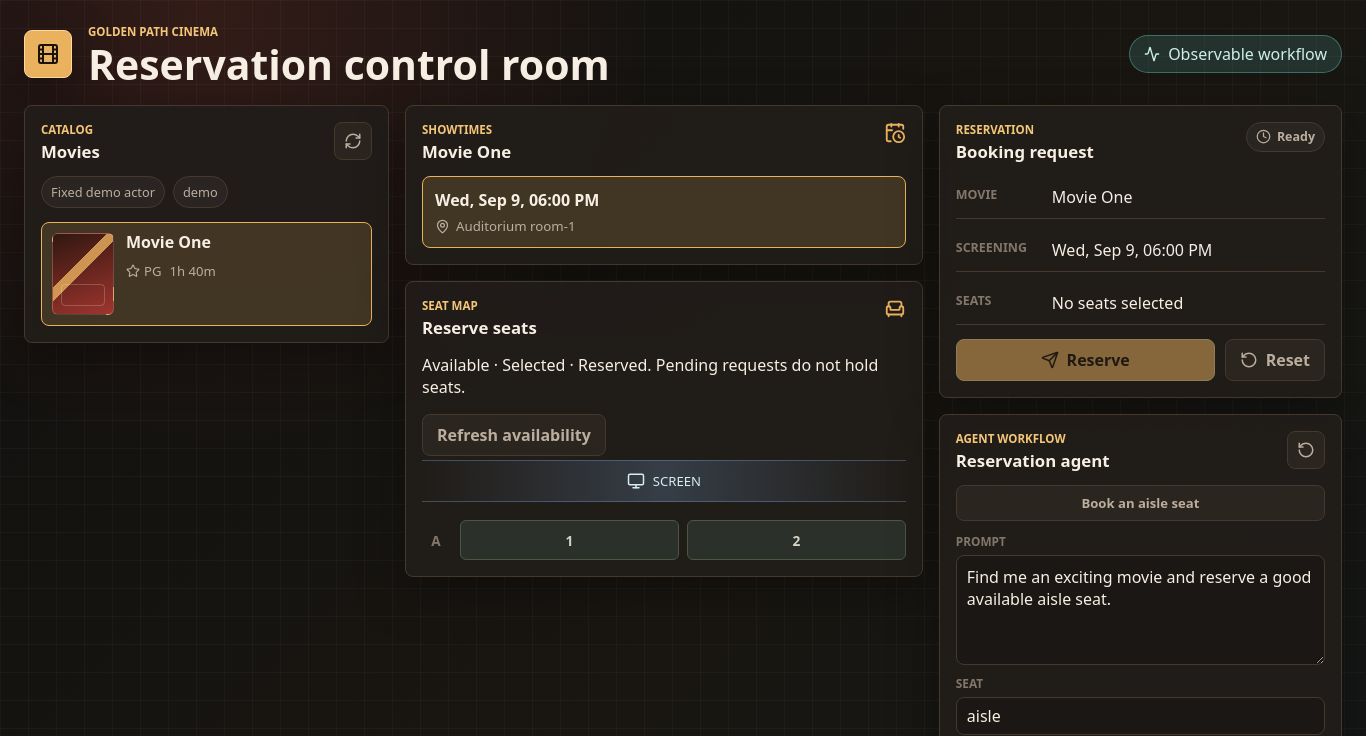
Test: server-owned booking availability › refreshes the latest screen when catalog reload happens during submission
Click the button named "Seat A1 — Available". click: (569, 540)
box: [460,520,679,560]
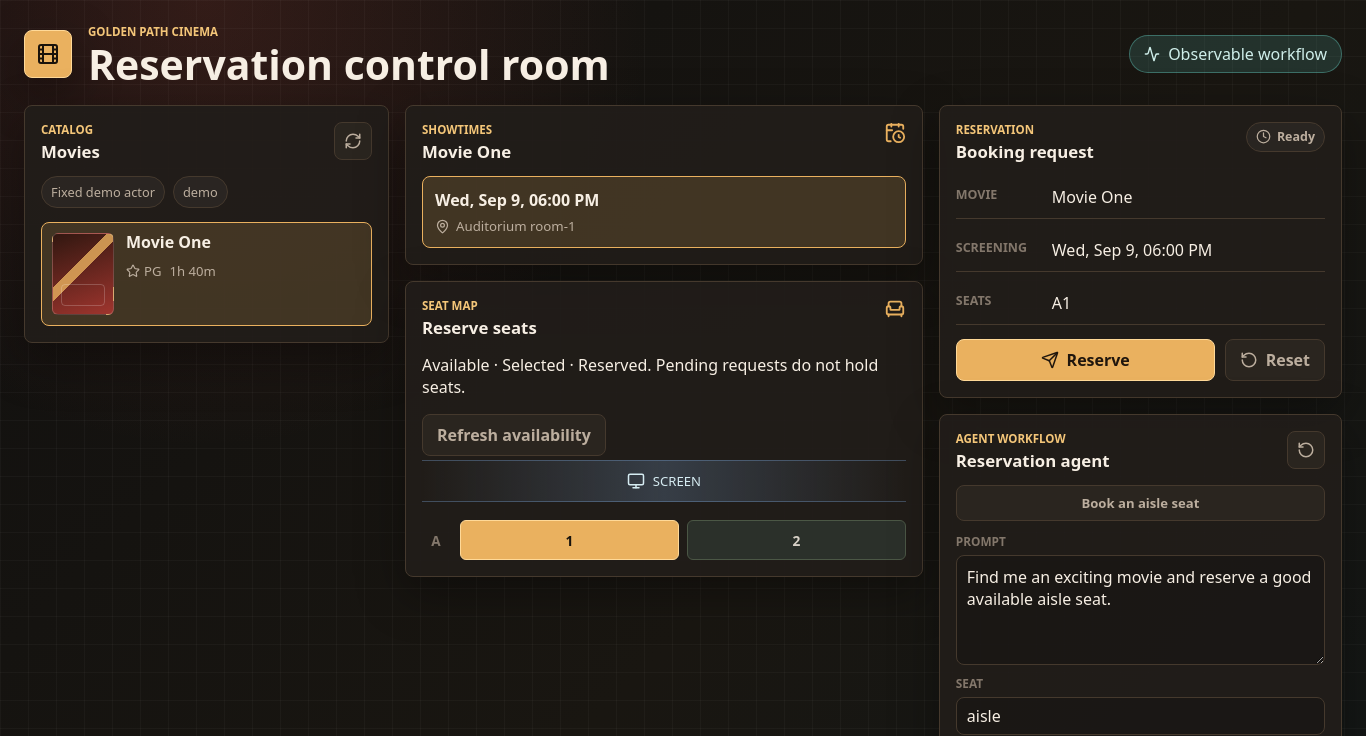
Click the button "Reserve". click: (1085, 360)
box: [956,339,1215,381]
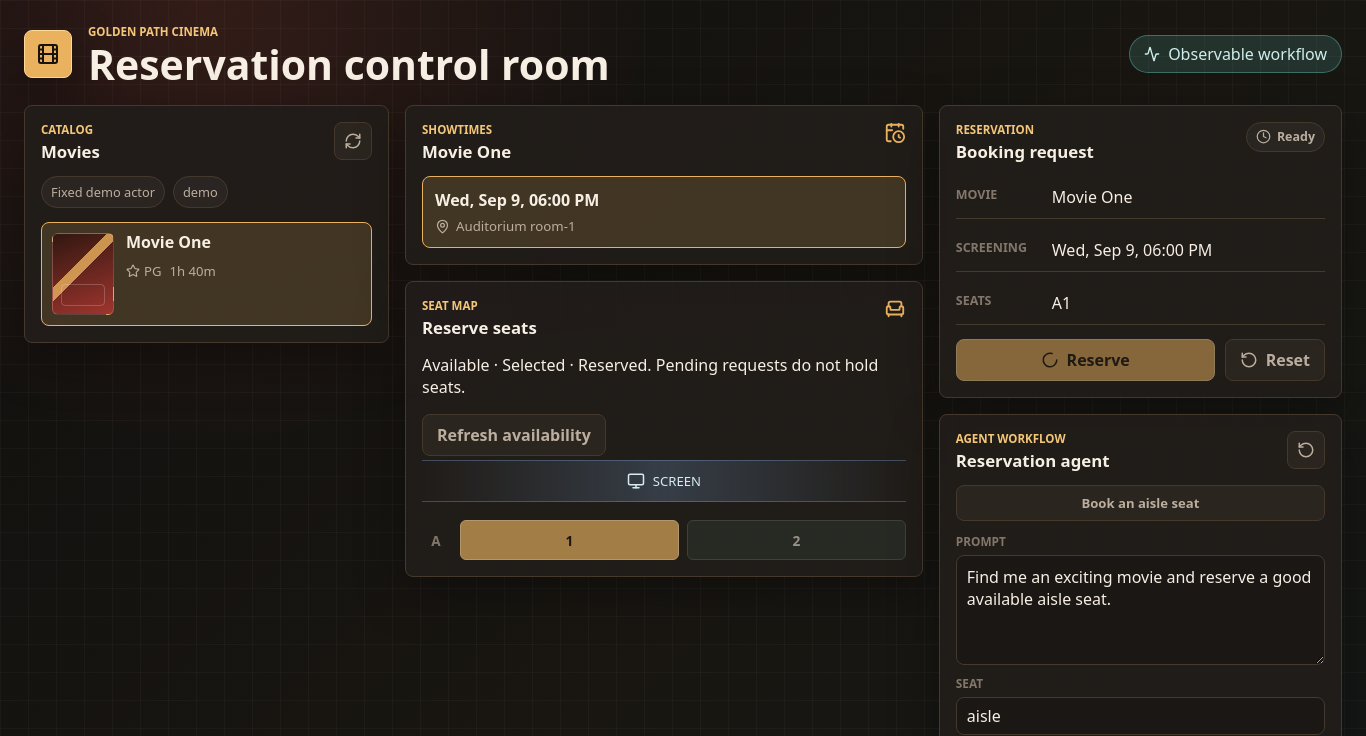
expect the field labelled "Confirmed reservation" is not shown: met
expect the button named "Seat A2 — Available" is disabled: met, box [687,520,906,560]
Click the button named "Reload catalog". click: (353, 141)
box: [334,122,372,160]
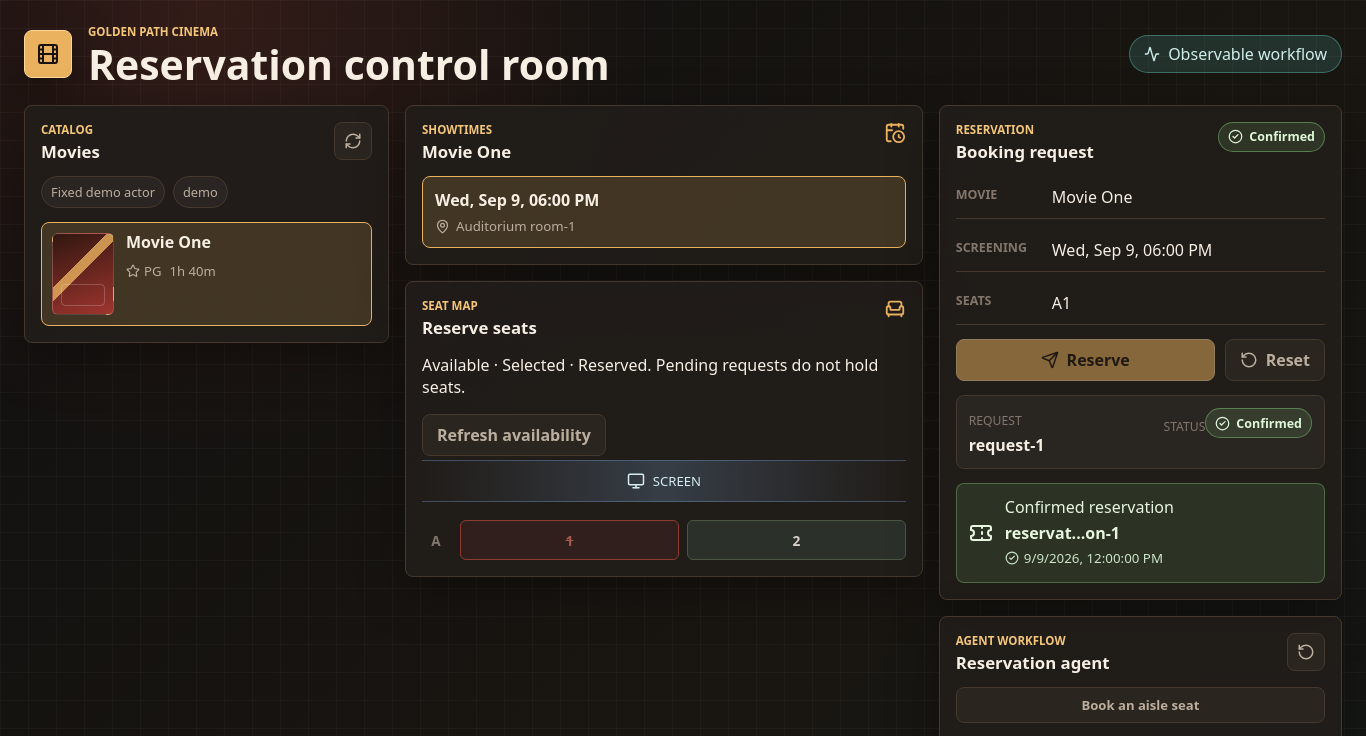
expect the button named "Seat A1 — Reserved" is disabled: met, box [460,520,679,560]
expect the element labelled "Confirmed reservation" is shown: met, box [956,483,1325,583]
